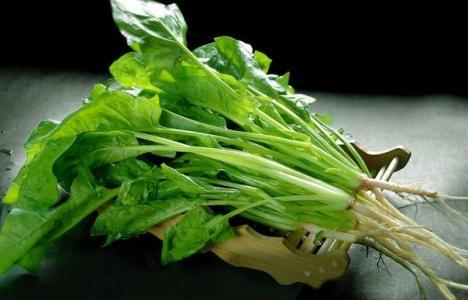bocai: (44, 110, 367, 236)
